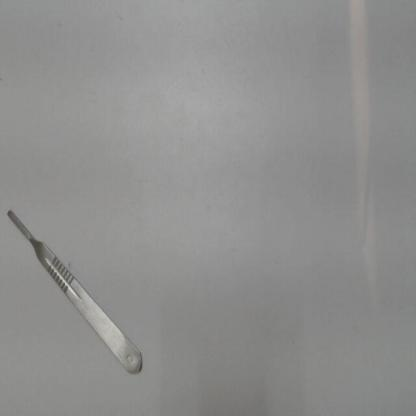No.4 BP Handle: (4, 204, 147, 378)
